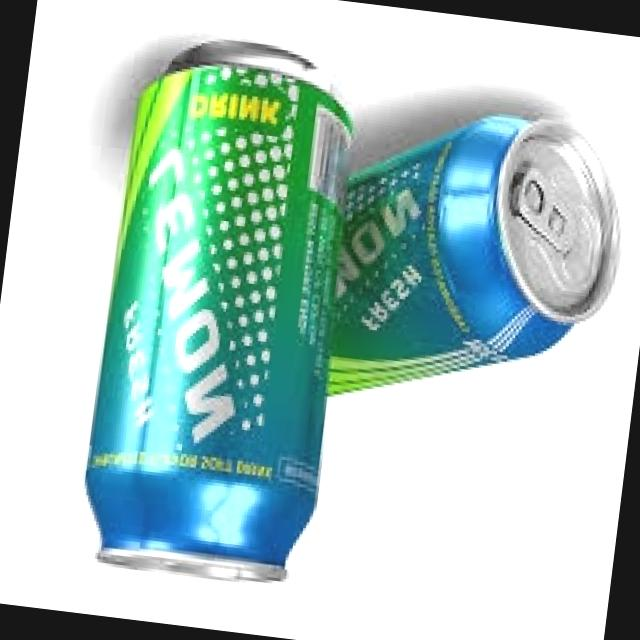kim_loai: (82, 38, 356, 581), (324, 109, 625, 393)
